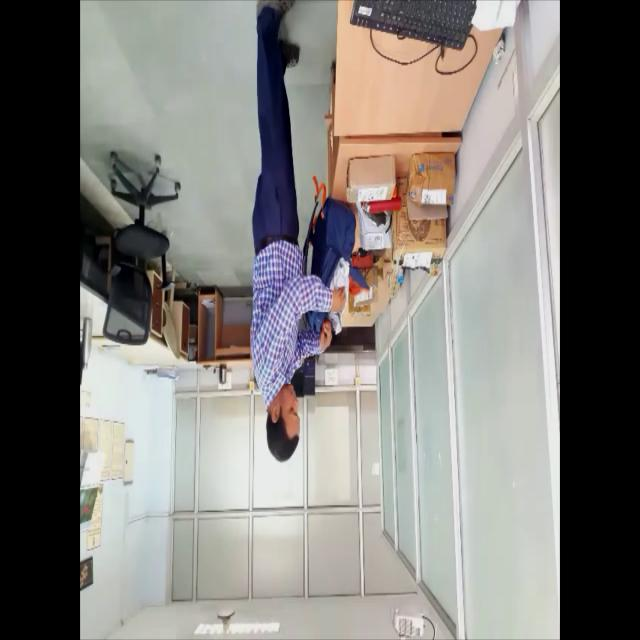shoplifting: (246, 0, 354, 465)
